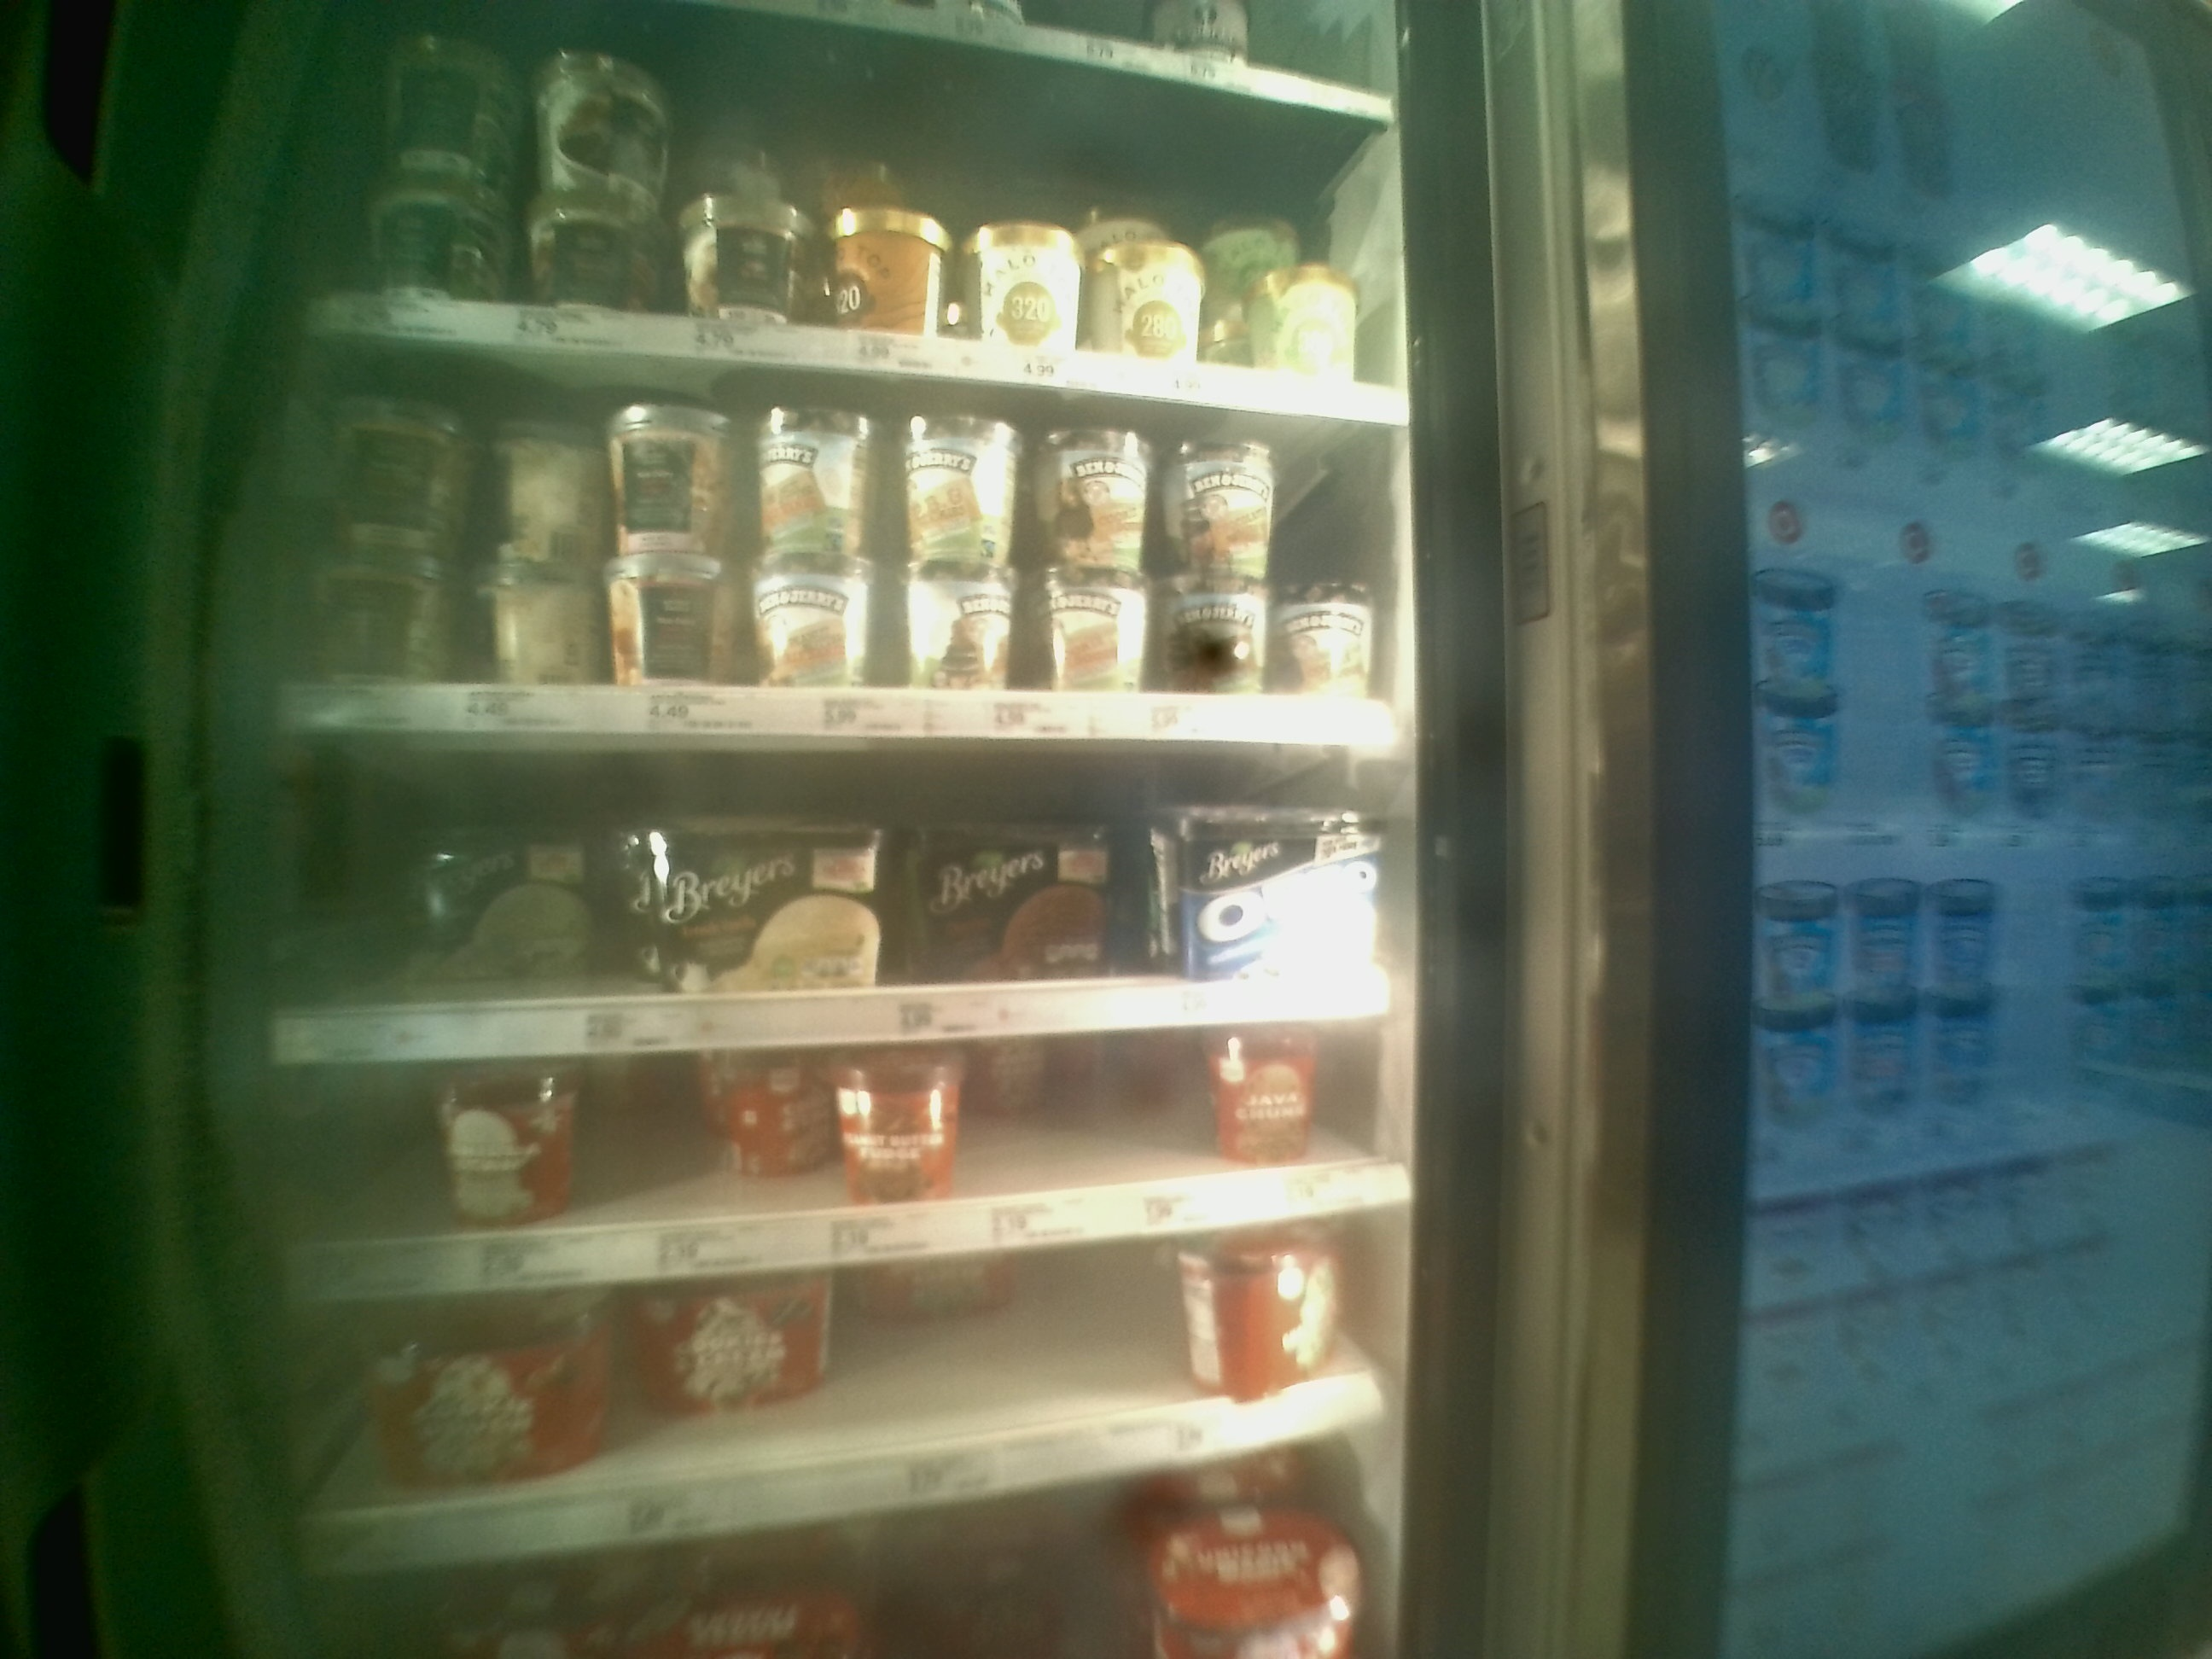shelf: (275, 734, 1416, 1047)
